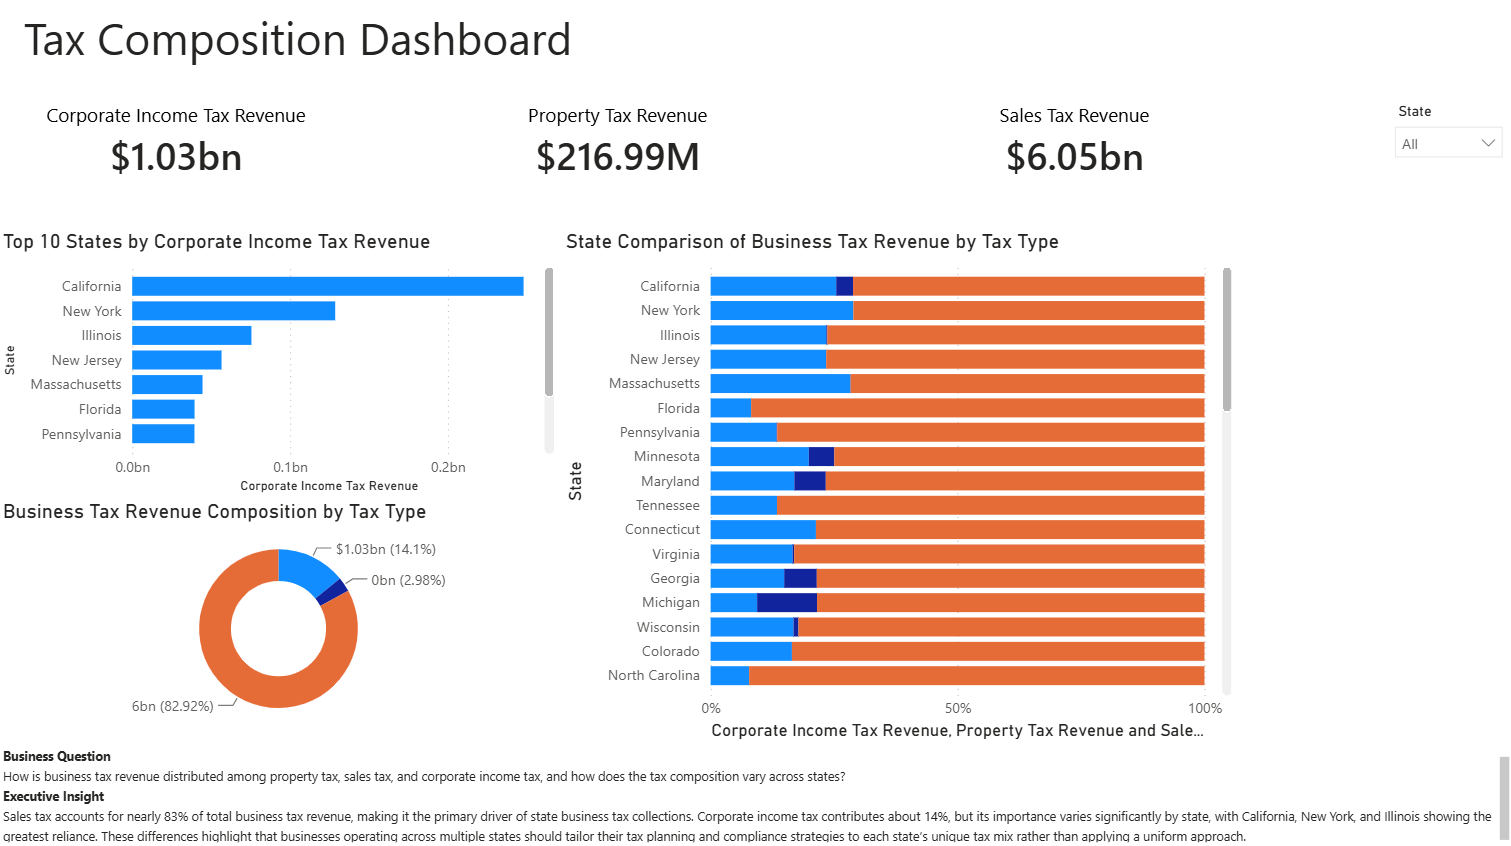

The dashboard page shown, as its layout file describes it:
{"tool":"powerbi","page":{"name":"Page 4 – Tax Composition","canvas":[1280,720],"ordinal":3},"visuals":[{"type":"clusteredBarChart","title":"Top 10 States by Corporate Income Tax Revenue","fields":{"Category":["fact_business_tax.State"],"Y":["corporate_tax_rate_2026_cleaned.Corporate Income Tax Revenue"]},"box":[0,197.9,474.6,227.5],"z":0},{"type":"donutChart","title":"Business Tax Revenue Composition by Tax Type","fields":{"Y":["corporate_tax_rate_2026_cleaned.Corporate Income Tax Revenue","corporate_tax_rate_2026_cleaned.Property Tax Revenue","corporate_tax_rate_2026_cleaned.Sales Tax Revenue"]},"box":[0,425.4,474.6,199.7],"z":1000},{"type":"hundredPercentStackedBarChart","title":"State Comparison of Business Tax Revenue by Tax Type","fields":{"Category":["fact_business_tax.State"],"Y":["corporate_tax_rate_2026_cleaned.Corporate Income Tax Revenue","corporate_tax_rate_2026_cleaned.Property Tax Revenue","corporate_tax_rate_2026_cleaned.Sales Tax Revenue"]},"box":[474.6,197.9,571.3,435.2],"z":2000},{"type":"cardVisual","fields":{"Data":["corporate_tax_rate_2026_cleaned.Corporate Income Tax Revenue"]},"box":[10.7,77.9,280.3,92.2],"z":3000},{"type":"cardVisual","fields":{"Data":["corporate_tax_rate_2026_cleaned.Property Tax Revenue"]},"box":[379.7,77.9,288.4,92.2],"z":4000},{"type":"cardVisual","fields":{"Data":["corporate_tax_rate_2026_cleaned.Sales Tax Revenue"]},"box":[771,77.9,274.9,92.2],"z":5000},{"type":"textbox","box":[0,633.1,1279.7,86.9],"z":6000},{"type":"textbox","box":[17.9,7.2,742.4,70.7],"z":7000},{"type":"slicer","fields":{"Values":["fact_business_tax.State"]},"box":[1168.7,86.9,111,150.4],"z":8000}]}

Visuals, with their boxes in screenshot pixels (x1, y1, x2, y2), scaled from the page's 1280x720 canvas onto the 1511x846 screenshot:
"Top 10 States by Corporate Income Tax Revenue" clusteredBarChart: 0:233:560:500
"Business Tax Revenue Composition by Tax Type" donutChart: 0:500:560:734
"State Comparison of Business Tax Revenue by Tax Type" hundredPercentStackedBarChart: 560:233:1235:744
cardVisual - corporate_tax_rate_2026_cleaned.Corporate Income Tax Revenue: 13:92:344:200
cardVisual - corporate_tax_rate_2026_cleaned.Property Tax Revenue: 448:92:789:200
cardVisual - corporate_tax_rate_2026_cleaned.Sales Tax Revenue: 910:92:1235:200
textbox: 0:744:1510:845
textbox: 21:8:898:92
slicer - fact_business_tax.State: 1380:102:1510:279
